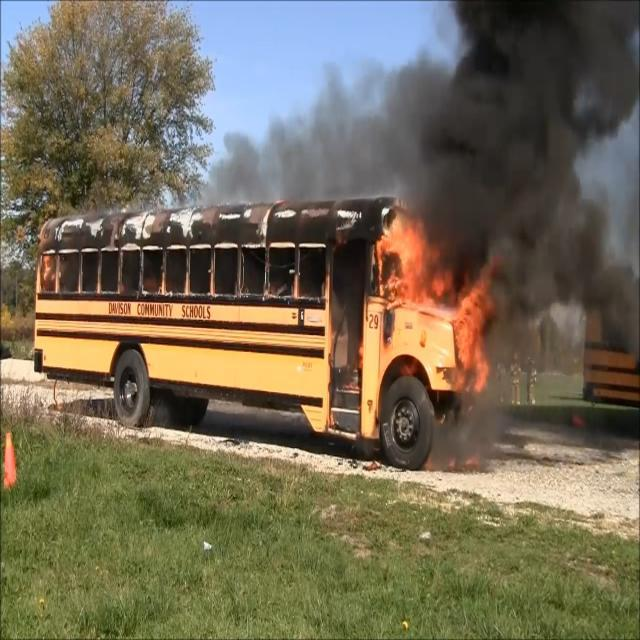Fire: (376, 233, 446, 296)
Smoke: (445, 13, 638, 240)
